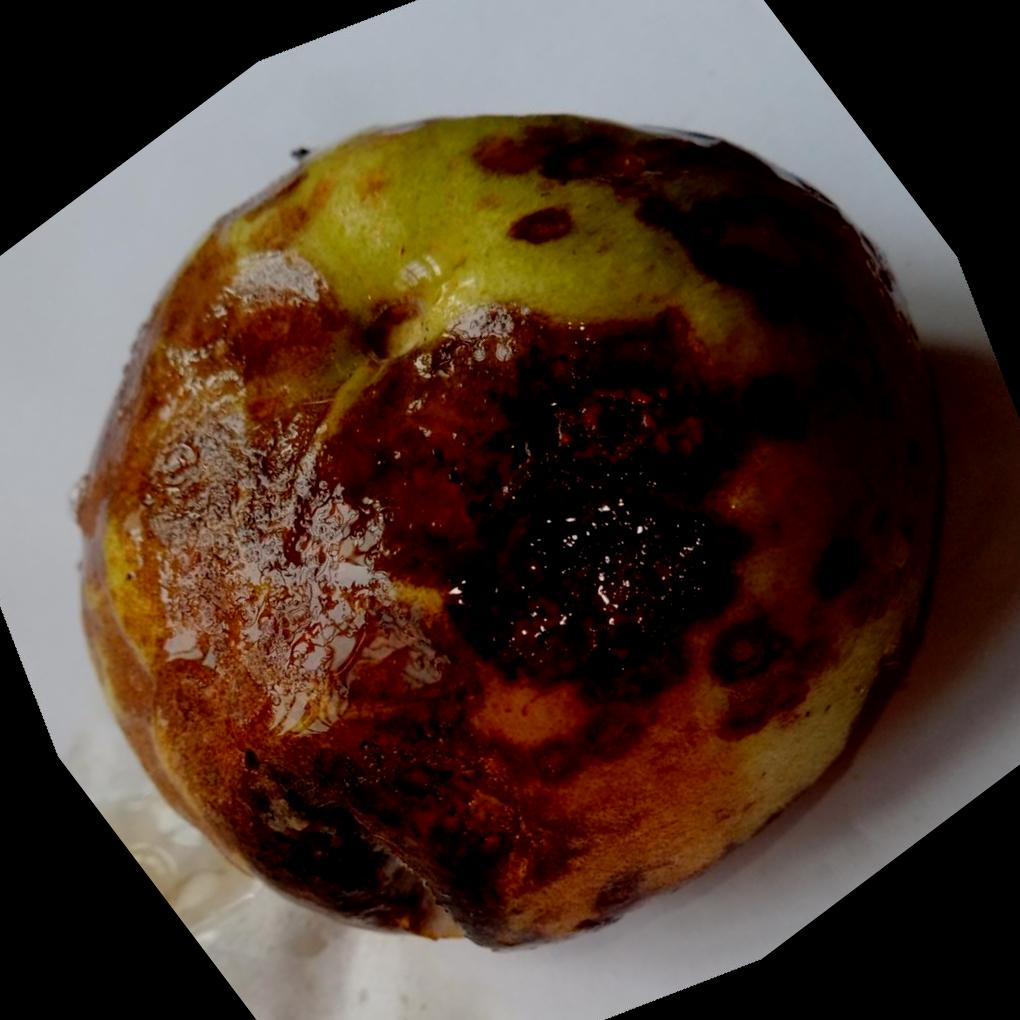FreshOrange: (71, 111, 944, 954)
